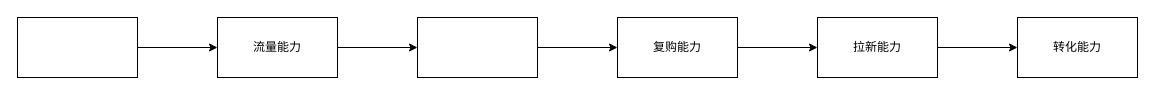
Some shapes in this 1155 by 95 pixel diagram are drawn without their labels. The centre of each missing label's shape, as x and y in pixels:
搭售能力: point 477,47
黄金流程说明: point 77,47
